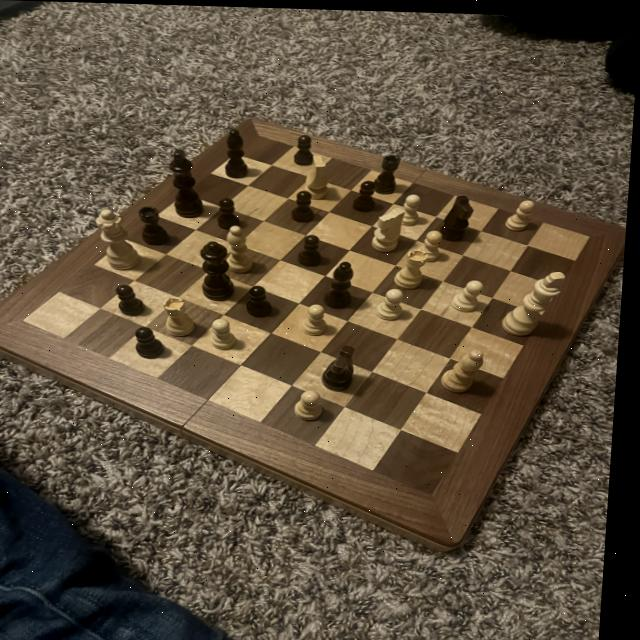bishop: (326, 256, 365, 311), (220, 122, 257, 179)
black-bishop: (168, 146, 214, 221)
black-king: (323, 342, 370, 393), (439, 190, 479, 241)
black-knight: (116, 281, 156, 319), (249, 282, 287, 320), (137, 325, 174, 360), (217, 194, 250, 232), (291, 130, 324, 166), (299, 231, 331, 268), (293, 187, 321, 223), (353, 177, 382, 211)
black-pawn: (197, 237, 243, 301)
black-queen: (139, 202, 179, 249), (373, 149, 405, 196)
black-rook: (443, 343, 496, 395), (225, 224, 265, 276)
white-bishop: (501, 265, 575, 337)
white-king: (300, 150, 339, 200), (371, 205, 409, 253)
white-knight: (415, 225, 455, 265), (295, 385, 337, 422), (452, 274, 494, 310), (210, 314, 248, 351), (380, 283, 417, 321), (503, 194, 542, 229), (398, 189, 430, 225), (306, 301, 337, 337)
white-pawn: (93, 205, 150, 272)
white-queen: (164, 293, 208, 340), (395, 244, 435, 289)
